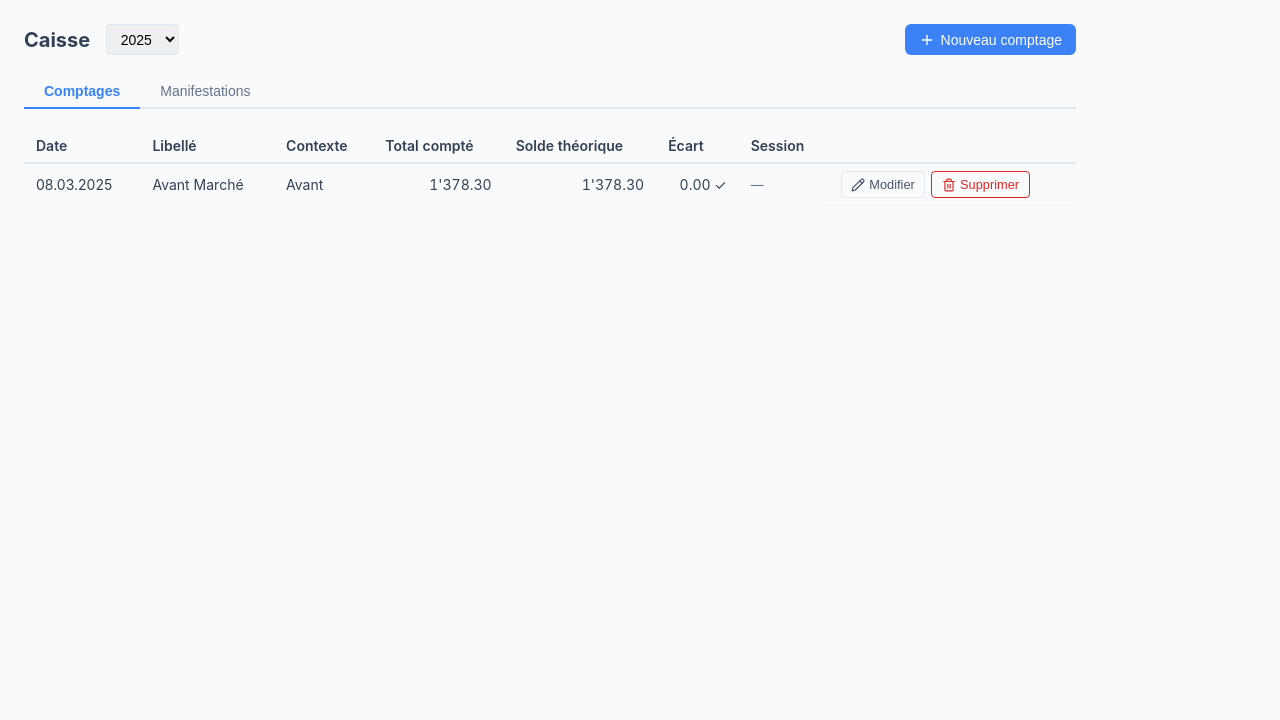
it: CaissePage › le bouton Nouveau comptage ouvre la modale
Step 1. Click the button "Nouveau comptage" → [990, 40], box [905,24,1076,55]
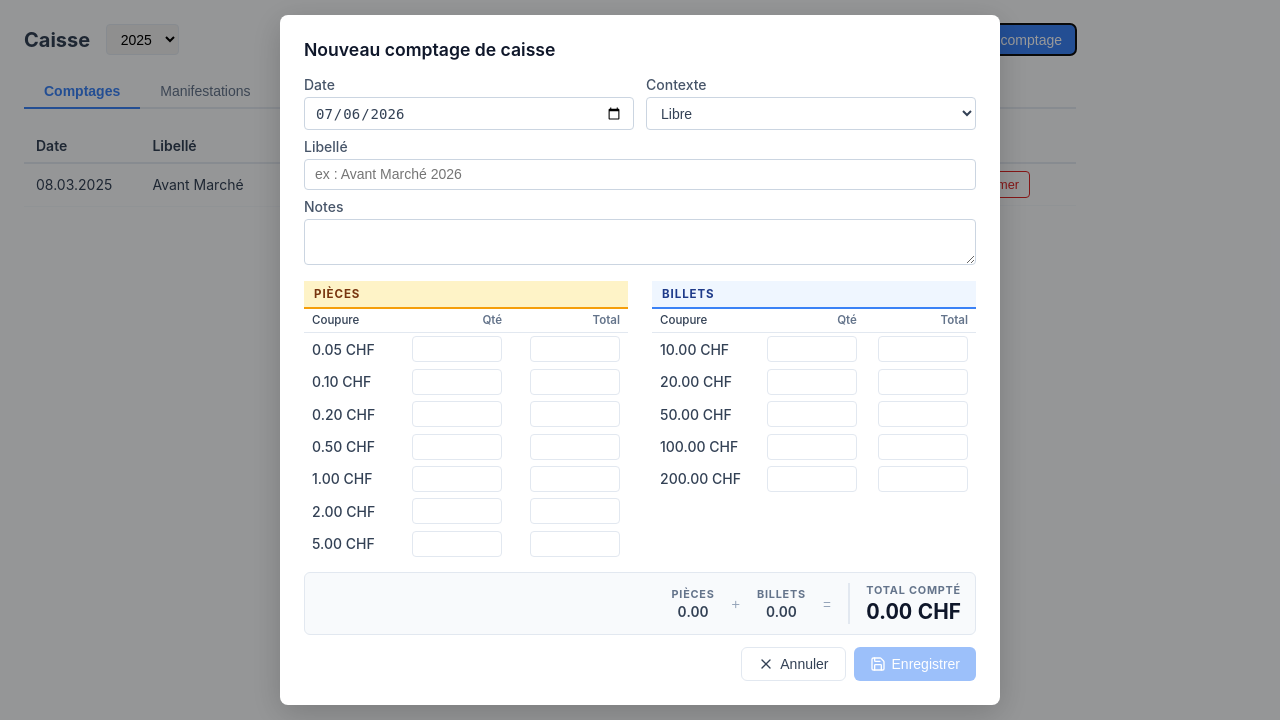
Now the heading "Nouveau comptage de caisse" is shown, box [304,39,555,60]
